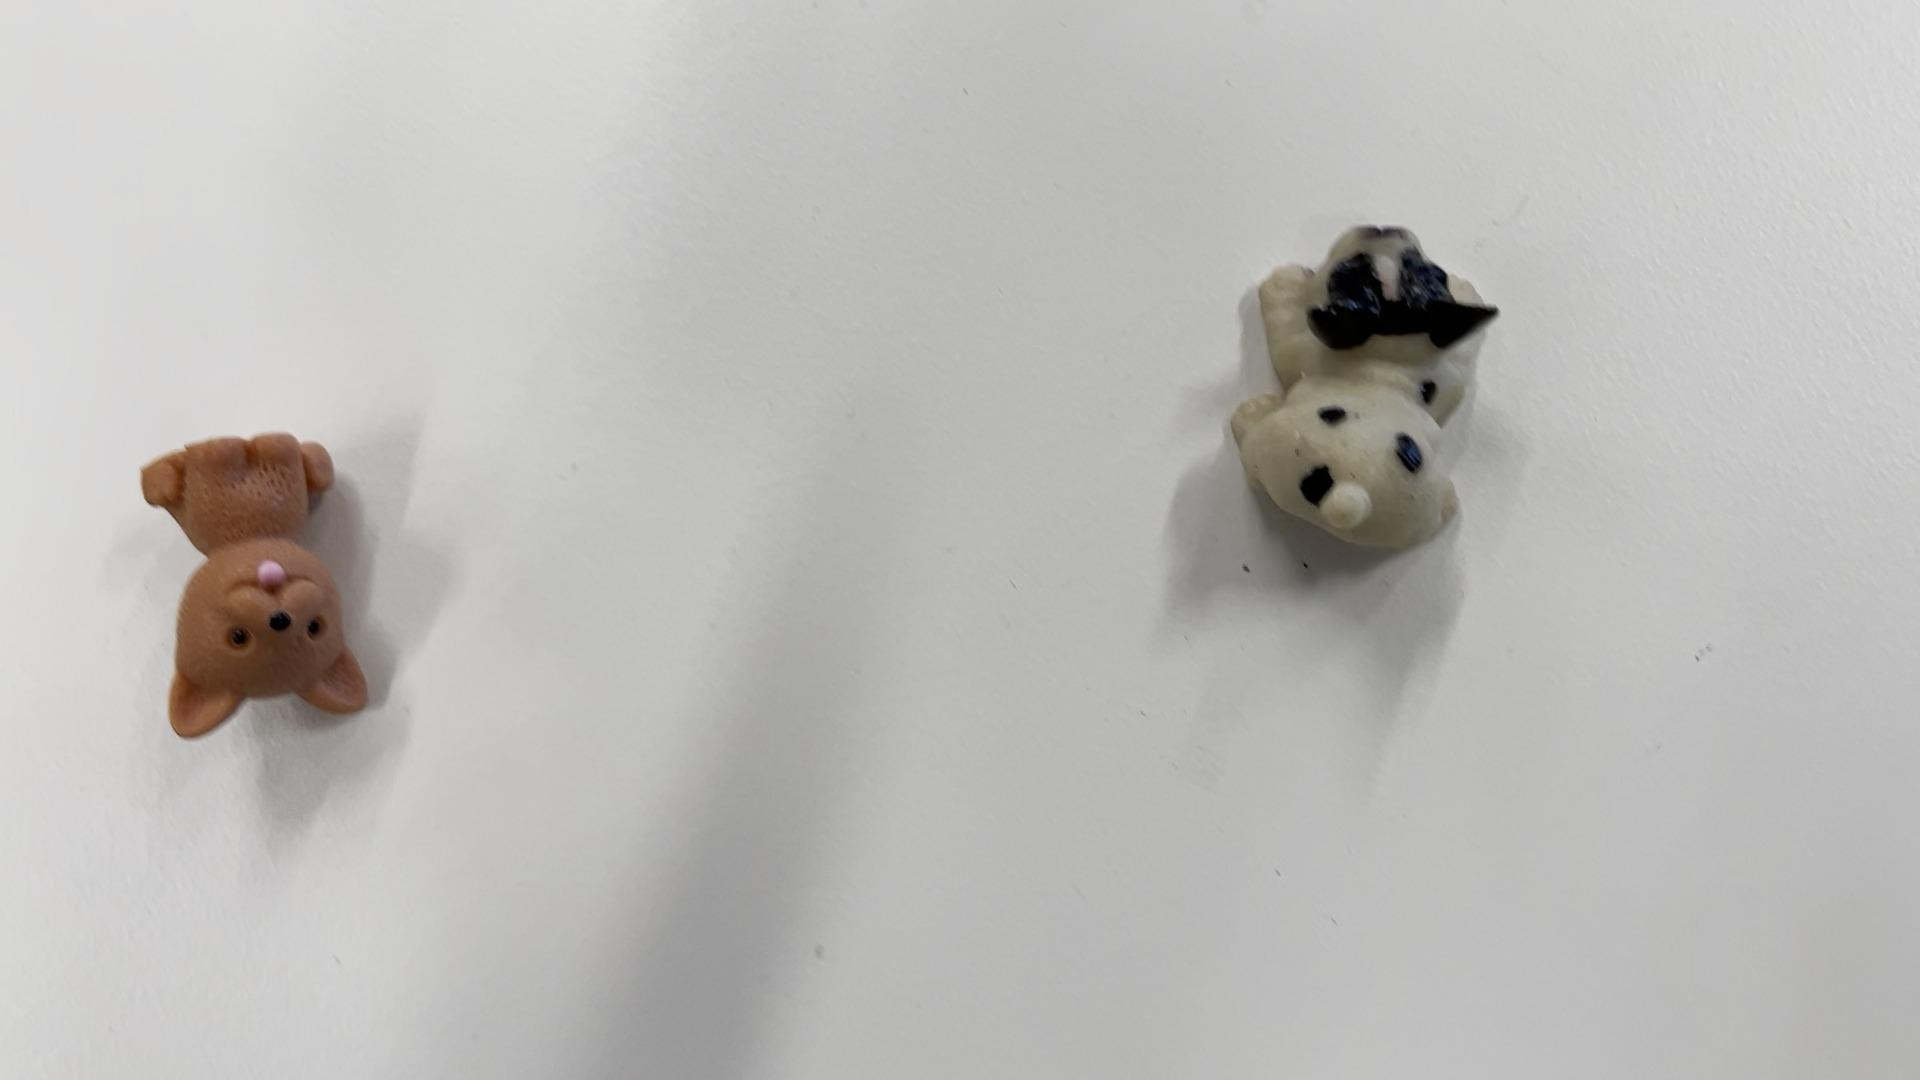pet: (1215, 202, 1507, 615), (132, 419, 397, 731)
